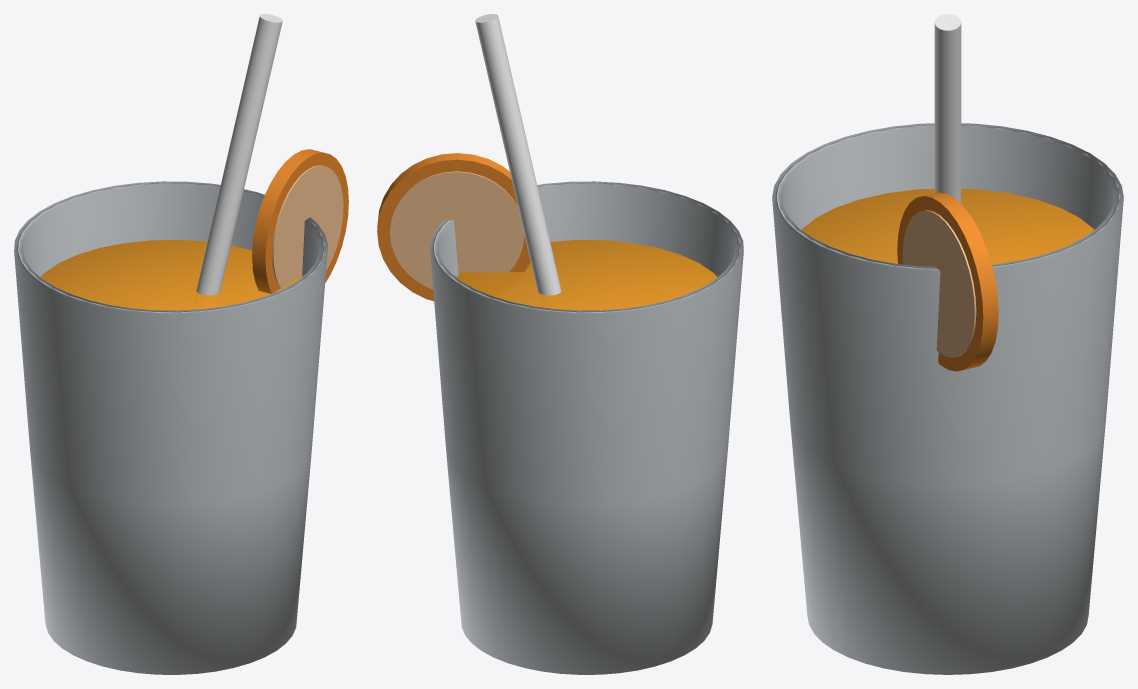
The model's file is bibite-spremuta.glb.
The picture shows the model from 3 angles, left to right: view 1: azimuth 30°, elevation 25°; view 2: azimuth 150°, elevation 25°; view 3: azimuth 270°, elevation 25°; orthographic projection. The views are drawn at different scales.
Size of the model in its own units: 0.0969 by 0.1633 by 0.08.
